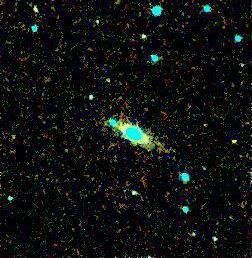star: (219, 127, 249, 157)
